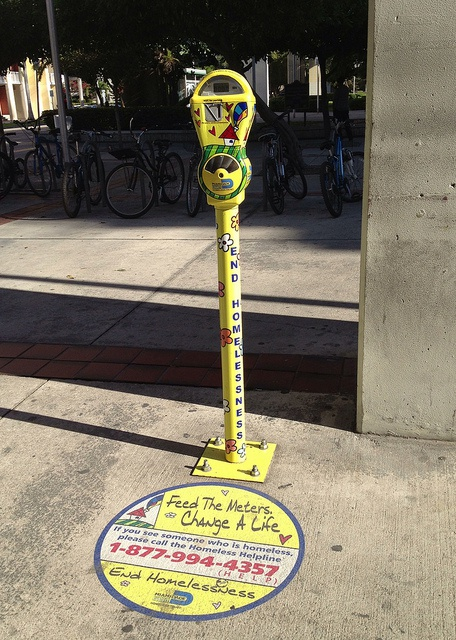non-vehicle: (101, 116, 187, 218), (12, 113, 84, 196), (258, 103, 309, 214), (317, 116, 364, 219), (60, 134, 106, 219), (0, 130, 30, 202), (185, 133, 202, 216)
